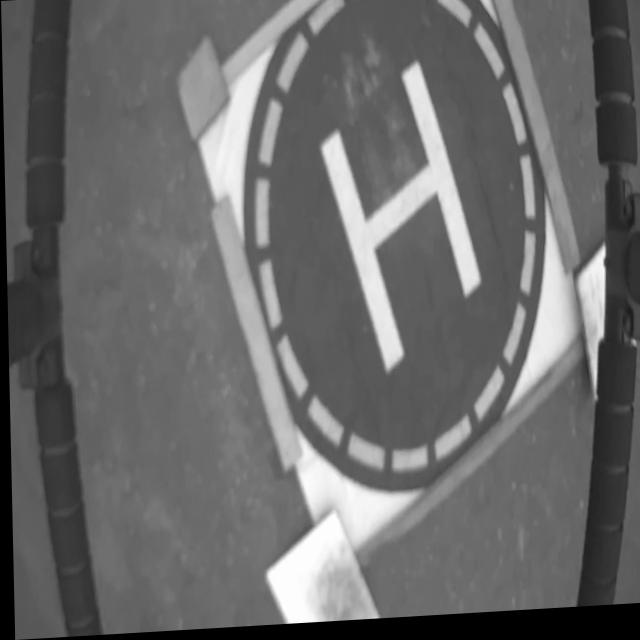Helipad: (317, 61, 479, 379)
